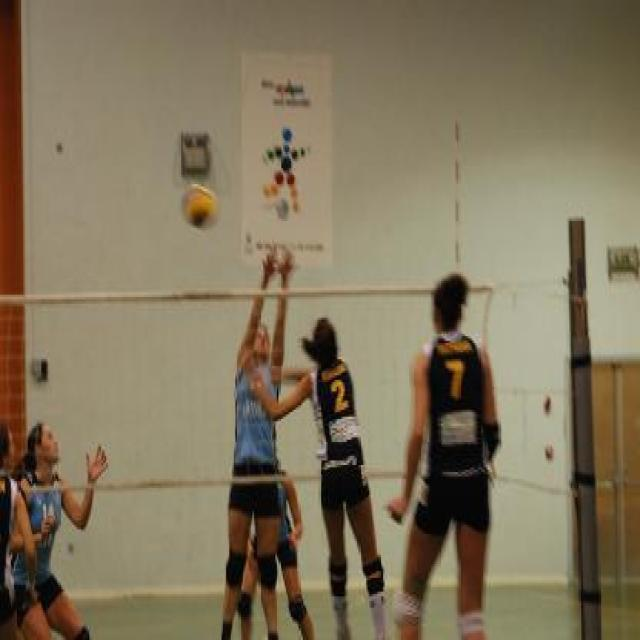volleyball: (178, 183, 220, 230)
